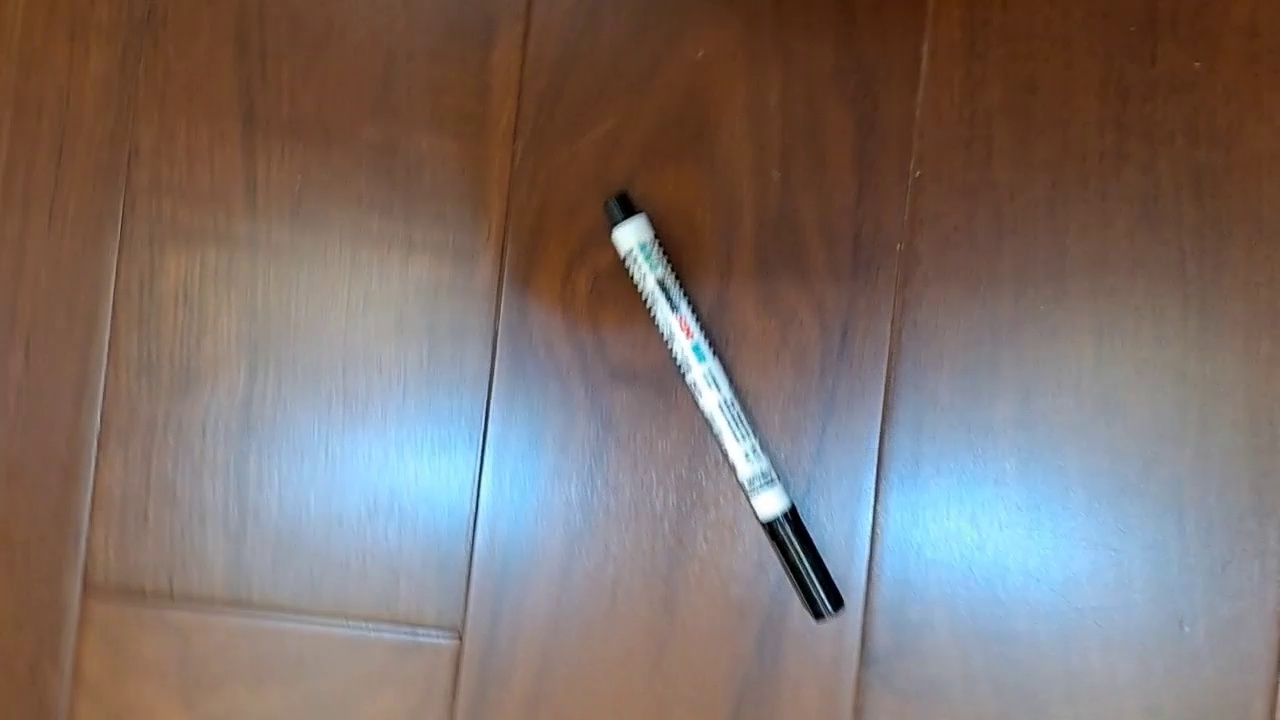pen: (601, 188, 846, 624)
